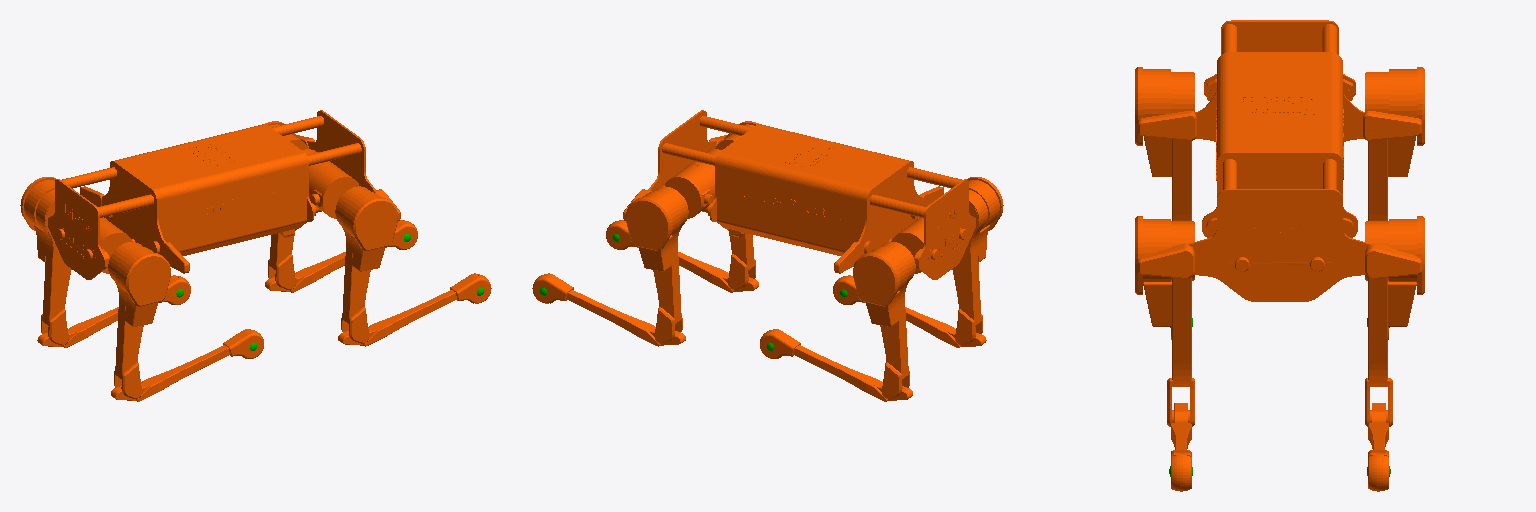
--- Facts derived from the render (not from the file) ---
3 views of the same robot in one strip: view 1: azimuth 30°, elevation 25°; view 2: azimuth 150°, elevation 25°; view 3: azimuth 270°, elevation 25° (orthographic).
Model aliengo_description with 19 links and 18 joints (8 revolute, 4 continuous, 6 fixed), rooted at base, posed joints at zero except 4 at the middle of their limits (FR_calf_joint = -1.71, FL_calf_joint = -1.71, RR_calf_joint = -1.71, RL_calf_joint = -1.71).
Visible links, largest first — view 1: trunk, RR_thigh, FR_thigh, RL_thigh, RR_calf, FR_calf, FR_hip, FL_calf, RL_calf, FL_thigh, RR_hip; view 2: trunk, RL_thigh, FL_thigh, RR_thigh, RL_calf, FL_calf, FL_hip, FR_calf, RR_calf, FR_thigh, RL_hip; view 3: trunk, FR_thigh, FL_thigh, RR_thigh, RL_thigh, FR_calf, FL_calf.
Boxes of the visible links, box(x1,y1,x2,y2) form: trunk: box(48, 110, 400, 279); RR_thigh: box(108, 242, 170, 398); FR_thigh: box(335, 186, 397, 343); RL_thigh: box(20, 177, 71, 345); RR_calf: box(111, 329, 263, 401); FR_calf: box(338, 273, 491, 346); FR_hip: box(309, 162, 358, 218); FL_calf: box(265, 220, 417, 292); RL_calf: box(37, 275, 190, 347); FL_thigh: box(265, 121, 307, 289); RR_hip: box(75, 218, 134, 273); trunk: box(623, 110, 975, 279); RL_thigh: box(853, 242, 915, 398); FL_thigh: box(626, 186, 688, 343); RR_thigh: box(952, 177, 1003, 345); RL_calf: box(760, 329, 912, 401); FL_calf: box(532, 273, 685, 346); FL_hip: box(665, 162, 714, 218); FR_calf: box(606, 220, 758, 292); RR_calf: box(833, 275, 986, 347); FR_thigh: box(716, 121, 758, 289); RL_hip: box(889, 218, 949, 273); trunk: box(1138, 20, 1421, 301); FR_thigh: box(1135, 216, 1194, 426); FL_thigh: box(1365, 216, 1424, 426); RR_thigh: box(1135, 67, 1194, 220); RL_thigh: box(1365, 67, 1424, 220); FR_calf: box(1171, 403, 1191, 491); FL_calf: box(1368, 403, 1388, 491).
Size in the robot's own frame: 0.8017 by 0.393 by 0.3807 metres.
13 mesh visuals loaded from 5 distinct referenced files (5 binary STL).

URDF robot description (aliengo_description):
<?xml version="1.0" ?>
<!-- =================================================================================== -->
<!-- |    This document was autogenerated by xacro from robot.xacro                    | -->
<!-- |    EDITING THIS FILE BY HAND IS NOT RECOMMENDED                                 | -->
<!-- =================================================================================== -->
<robot name="aliengo_description" xmlns:xacro="http://www.ros.org/wiki/xacro">
  <material name="black">
    <color rgba="0.0 0.0 0.0 1.0"/>
  </material>
  <material name="blue">
    <color rgba="0.0 0.0 0.8 1.0"/>
  </material>
  <material name="green">
    <color rgba="0.0 0.8 0.0 1.0"/>
  </material>
  <material name="grey">
    <color rgba="0.2 0.2 0.2 1.0"/>
  </material>
  <material name="silver">
    <color rgba="0.913725490196 0.913725490196 0.847058823529 1.0"/>
  </material>
  <material name="orange">
    <color rgba="1.0 0.423529411765 0.0392156862745 1.0"/>
  </material>
  <material name="brown">
    <color rgba="0.870588235294 0.811764705882 0.764705882353 1.0"/>
  </material>
  <material name="red">
    <color rgba="0.8 0.0 0.0 1.0"/>
  </material>
  <material name="white">
    <color rgba="1.0 1.0 1.0 1.0"/>
  </material>
  <!-- <xacro:include filename="$(find aliengo_gazebo)/launch/gazebo.xacro"/> -->
  <!-- Debug mode will hung up the robot, use "true" or "false" to switch it. -->
  <!-- <xacro:if value="$(arg DEBUG)">
        <link name="world"/>
        <joint name="base_static_joint" type="fixed">
            <origin rpy="0 0 0" xyz="0 0 0"/>
            <parent link="world"/>
            <child link="base"/>
        </joint>
    </xacro:if>  -->
  <link name="base">
    <visual>
      <origin rpy="0 0 0" xyz="0 0 0"/>
      <geometry>
        <box size="0.001 0.001 0.001"/>
      </geometry>
    </visual>
  </link>
  <joint name="floating_base" type="fixed">
    <origin rpy="0 0 0" xyz="0 0 0"/>
    <parent link="base"/>
    <child link="trunk"/>
  </joint>
  <link name="trunk">
    <visual>
      <origin rpy="0 0 0" xyz="0 0 0"/>
      <geometry>
        <mesh filename="../meshes/trunk.stl" scale="1 1 1"/>
      </geometry>
      <material name="orange"/>
    </visual>
    <collision>
      <origin rpy="0 0 0" xyz="0 0 0"/>
      <geometry>
        <box size="0.647 0.15 0.112"/>
      </geometry>
    </collision>
    <!-- <collision>
            <origin rpy="0 0 0" xyz="0 0 0"/>
            <geometry>
                <mesh filename="../meshes/trunk.stl" scale="1 1 1"/>
            </geometry>
        </collision> -->
    <inertial>
      <origin rpy="0 0 0" xyz="0.008465 0.004045 -0.000763"/>
      <mass value="9.041"/>
      <inertia ixx="0.033260231" ixy="-0.000451628" ixz="0.000487603" iyy="0.16117211" iyz="4.8356e-05" izz="0.17460442"/>
    </inertial>
  </link>
  <joint name="imu_joint" type="fixed">
    <parent link="trunk"/>
    <child link="imu_link"/>
    <origin rpy="0 0 0" xyz="0 0 0"/>
  </joint>
  <link name="imu_link">
    <inertial>
      <mass value="0.001"/>
      <origin rpy="0 0 0" xyz="0 0 0"/>
      <inertia ixx="0.0001" ixy="0" ixz="0" iyy="0.000001" iyz="0" izz="0.0001"/>
    </inertial>
    <visual>
      <origin rpy="0 0 0" xyz="0 0 0"/>
      <geometry>
        <box size="0.001 0.001 0.001"/>
      </geometry>
      <material name="red"/>
    </visual>
    <collision>
      <origin rpy="0 0 0" xyz="0 0 0"/>
      <geometry>
        <box size=".001 .001 .001"/>
      </geometry>
    </collision>
  </link>
  <joint name="FR_hip_joint" type="revolute">
    <origin rpy="0 0 0" xyz="0.2399 -0.051 0"/>
    <parent link="trunk"/>
    <child link="FR_hip"/>
    <axis xyz="1 0 0"/>
    <dynamics damping="0" friction="0"/>
    <limit effort="44.4" lower="-1.2217304764" upper="1.2217304764" velocity="40"/>
  </joint>
  <link name="FR_hip">
    <visual>
      <origin rpy="3.14159265359 0 0" xyz="0 0 0"/>
      <geometry>
        <mesh filename="../meshes/hip.stl" scale="1 1 1"/>
      </geometry>
      <material name="orange"/>
    </visual>
    <collision>
      <origin rpy="1.57079632679 0 0" xyz="0 -0.083 0"/>
      <geometry>
        <cylinder length="0.0418" radius="0.046"/>
      </geometry>
    </collision>
    <inertial>
      <origin rpy="0 0 0" xyz="-0.022191 -0.015144 -1.5e-05"/>
      <mass value="1.993"/>
      <inertia ixx="0.002903894" ixy="7.185e-05" ixz="-1.262e-06" iyy="0.004907517" iyz="1.75e-06" izz="0.005586944"/>
    </inertial>
  </link>
  <!-- <joint name="${name}_hip_fixed" type="fixed">
            <origin rpy="0 0 0" xyz="0 ${(thigh_shoulder_length/2.0+hip_offset)*mirror} 0"/>
            <parent link="${name}_hip"/>
            <child link="${name}_thigh_shoulder"/>
        </joint> -->
  <!-- this link is only for collision -->
  <!-- <link name="${name}_thigh_shoulder">
            <collision>
                <origin rpy="${PI/2.0} 0 0" xyz="0 0 0"/>
                <geometry>
                    <cylinder length="${thigh_shoulder_length}" radius="${thigh_shoulder_radius}"/>
                </geometry>
            </collision>
        </link> -->
  <joint name="FR_thigh_joint" type="continuous">
    <origin rpy="0 0 0" xyz="0 -0.083 0"/>
    <parent link="FR_hip"/>
    <child link="FR_thigh"/>
    <axis xyz="0 1 0"/>
    <dynamics damping="0" friction="0"/>
    <limit effort="44.4" velocity="40"/>
  </joint>
  <link name="FR_thigh">
    <visual>
      <origin rpy="0 0 0" xyz="0 0 0"/>
      <geometry>
        <mesh filename="../meshes/thigh_mirror.stl" scale="1 1 1"/>
      </geometry>
      <material name="orange"/>
    </visual>
    <collision>
      <origin rpy="0 1.57079632679 0" xyz="0 0 -0.125"/>
      <geometry>
        <box size="0.25 0.0374 0.043"/>
      </geometry>
    </collision>
    <inertial>
      <origin rpy="0 0 0" xyz="-0.005607 0.003877 -0.048199"/>
      <mass value="0.639"/>
      <inertia ixx="0.005666803" ixy="-3.597e-06" ixz="0.000491446" iyy="0.005847229" iyz="-1.0086e-05" izz="0.000369811"/>
    </inertial>
  </link>
  <joint name="FR_calf_joint" type="revolute">
    <origin rpy="0 0 0" xyz="0 0 -0.25"/>
    <parent link="FR_thigh"/>
    <child link="FR_calf"/>
    <axis xyz="0 1 0"/>
    <dynamics damping="0" friction="0"/>
    <limit effort="44.4" lower="-2.77507351067" upper="-0.645771823238" velocity="40"/>
  </joint>
  <link name="FR_calf">
    <visual>
      <origin rpy="0 0 0" xyz="0 0 0"/>
      <geometry>
        <mesh filename="../meshes/calf.stl" scale="1 1 1"/>
      </geometry>
      <material name="orange"/>
    </visual>
    <collision>
      <origin rpy="0 1.57079632679 0" xyz="0 0 -0.125"/>
      <geometry>
        <box size="0.25 0.0208 0.016"/>
      </geometry>
    </collision>
    <inertial>
      <origin rpy="0 0 0" xyz="0.002781 6.3e-05 -0.142518"/>
      <mass value="0.207"/>
      <inertia ixx="0.006341369" ixy="-3e-09" ixz="-8.7951e-05" iyy="0.006355157" iyz="-1.336e-06" izz="3.9188e-05"/>
    </inertial>
  </link>
  <joint name="FR_foot_fixed" type="fixed">
    <origin rpy="0 0 0" xyz="0 0 -0.25"/>
    <parent link="FR_calf"/>
    <child link="FR_foot"/>
  </joint>
  <link name="FR_foot">
    <visual>
      <origin rpy="0 0 0" xyz="0 0 0"/>
      <geometry>
        <sphere radius="0.0165"/>
      </geometry>
      <material name="green"/>
    </visual>
    <collision>
      <origin rpy="0 0 0" xyz="0 0 0"/>
      <geometry>
        <sphere radius="0.0265"/>
      </geometry>
    </collision>
    <inertial>
      <mass value="0.06"/>
      <inertia ixx="1.6854e-05" ixy="0.0" ixz="0.0" iyy="1.6854e-05" iyz="0.0" izz="1.6854e-05"/>
    </inertial>
  </link>
  <transmission name="FR_hip_tran">
    <type>transmission_interface/SimpleTransmission</type>
    <joint name="FR_hip_joint">
      <hardwareInterface>hardware_interface/EffortJointInterface</hardwareInterface>
    </joint>
    <actuator name="FR_hip_motor">
      <hardwareInterface>hardware_interface/EffortJointInterface</hardwareInterface>
      <mechanicalReduction>1</mechanicalReduction>
    </actuator>
  </transmission>
  <transmission name="FR_thigh_tran">
    <type>transmission_interface/SimpleTransmission</type>
    <joint name="FR_thigh_joint">
      <hardwareInterface>hardware_interface/EffortJointInterface</hardwareInterface>
    </joint>
    <actuator name="FR_thigh_motor">
      <hardwareInterface>hardware_interface/EffortJointInterface</hardwareInterface>
      <mechanicalReduction>1</mechanicalReduction>
    </actuator>
  </transmission>
  <transmission name="FR_calf_tran">
    <type>transmission_interface/SimpleTransmission</type>
    <joint name="FR_calf_joint">
      <hardwareInterface>hardware_interface/EffortJointInterface</hardwareInterface>
    </joint>
    <actuator name="FR_calf_motor">
      <hardwareInterface>hardware_interface/EffortJointInterface</hardwareInterface>
      <mechanicalReduction>1</mechanicalReduction>
    </actuator>
  </transmission>
  <joint name="FL_hip_joint" type="revolute">
    <origin rpy="0 0 0" xyz="0.2399 0.051 0"/>
    <parent link="trunk"/>
    <child link="FL_hip"/>
    <axis xyz="1 0 0"/>
    <dynamics damping="0" friction="0"/>
    <limit effort="44.4" lower="-1.2217304764" upper="1.2217304764" velocity="40"/>
  </joint>
  <link name="FL_hip">
    <visual>
      <origin rpy="0 0 0" xyz="0 0 0"/>
      <geometry>
        <mesh filename="../meshes/hip.stl" scale="1 1 1"/>
      </geometry>
      <material name="orange"/>
    </visual>
    <collision>
      <origin rpy="1.57079632679 0 0" xyz="0 0.083 0"/>
      <geometry>
        <cylinder length="0.0418" radius="0.046"/>
      </geometry>
    </collision>
    <inertial>
      <origin rpy="0 0 0" xyz="-0.022191 0.015144 -1.5e-05"/>
      <mass value="1.993"/>
      <inertia ixx="0.002903894" ixy="-7.185e-05" ixz="-1.262e-06" iyy="0.004907517" iyz="-1.75e-06" izz="0.005586944"/>
    </inertial>
  </link>
  <!-- <joint name="${name}_hip_fixed" type="fixed">
            <origin rpy="0 0 0" xyz="0 ${(thigh_shoulder_length/2.0+hip_offset)*mirror} 0"/>
            <parent link="${name}_hip"/>
            <child link="${name}_thigh_shoulder"/>
        </joint> -->
  <!-- this link is only for collision -->
  <!-- <link name="${name}_thigh_shoulder">
            <collision>
                <origin rpy="${PI/2.0} 0 0" xyz="0 0 0"/>
                <geometry>
                    <cylinder length="${thigh_shoulder_length}" radius="${thigh_shoulder_radius}"/>
                </geometry>
            </collision>
        </link> -->
  <joint name="FL_thigh_joint" type="continuous">
    <origin rpy="0 0 0" xyz="0 0.083 0"/>
    <parent link="FL_hip"/>
    <child link="FL_thigh"/>
    <axis xyz="0 1 0"/>
    <dynamics damping="0" friction="0"/>
    <limit effort="44.4" velocity="40"/>
  </joint>
  <link name="FL_thigh">
    <visual>
      <origin rpy="0 0 0" xyz="0 0 0"/>
      <geometry>
        <mesh filename="../meshes/thigh.stl" scale="1 1 1"/>
      </geometry>
      <material name="orange"/>
    </visual>
    <collision>
      <origin rpy="0 1.57079632679 0" xyz="0 0 -0.125"/>
      <geometry>
        <box size="0.25 0.0374 0.043"/>
      </geometry>
    </collision>
    <inertial>
      <origin rpy="0 0 0" xyz="-0.005607 -0.003877 -0.048199"/>
      <mass value="0.639"/>
      <inertia ixx="0.005666803" ixy="3.597e-06" ixz="0.000491446" iyy="0.005847229" iyz="1.0086e-05" izz="0.000369811"/>
    </inertial>
  </link>
  <joint name="FL_calf_joint" type="revolute">
    <origin rpy="0 0 0" xyz="0 0 -0.25"/>
    <parent link="FL_thigh"/>
    <child link="FL_calf"/>
    <axis xyz="0 1 0"/>
    <dynamics damping="0" friction="0"/>
    <limit effort="44.4" lower="-2.77507351067" upper="-0.645771823238" velocity="40"/>
  </joint>
  <link name="FL_calf">
    <visual>
      <origin rpy="0 0 0" xyz="0 0 0"/>
      <geometry>
        <mesh filename="../meshes/calf.stl" scale="1 1 1"/>
      </geometry>
      <material name="orange"/>
    </visual>
    <collision>
      <origin rpy="0 1.57079632679 0" xyz="0 0 -0.125"/>
      <geometry>
        <box size="0.25 0.0208 0.016"/>
      </geometry>
    </collision>
    <inertial>
      <origin rpy="0 0 0" xyz="0.002781 6.3e-05 -0.142518"/>
      <mass value="0.207"/>
      <inertia ixx="0.006341369" ixy="-3e-09" ixz="-8.7951e-05" iyy="0.006355157" iyz="-1.336e-06" izz="3.9188e-05"/>
    </inertial>
  </link>
  <joint name="FL_foot_fixed" type="fixed">
    <origin rpy="0 0 0" xyz="0 0 -0.25"/>
    <parent link="FL_calf"/>
    <child link="FL_foot"/>
  </joint>
  <link name="FL_foot">
    <visual>
      <origin rpy="0 0 0" xyz="0 0 0"/>
      <geometry>
        <sphere radius="0.0165"/>
      </geometry>
      <material name="green"/>
    </visual>
    <collision>
      <origin rpy="0 0 0" xyz="0 0 0"/>
      <geometry>
        <sphere radius="0.0265"/>
      </geometry>
    </collision>
    <inertial>
      <mass value="0.06"/>
      <inertia ixx="1.6854e-05" ixy="0.0" ixz="0.0" iyy="1.6854e-05" iyz="0.0" izz="1.6854e-05"/>
    </inertial>
  </link>
  <transmission name="FL_hip_tran">
    <type>transmission_interface/SimpleTransmission</type>
    <joint name="FL_hip_joint">
      <hardwareInterface>hardware_interface/EffortJointInterface</hardwareInterface>
    </joint>
    <actuator name="FL_hip_motor">
      <hardwareInterface>hardware_interface/EffortJointInterface</hardwareInterface>
      <mechanicalReduction>1</mechanicalReduction>
    </actuator>
  </transmission>
  <transmission name="FL_thigh_tran">
    <type>transmission_interface/SimpleTransmission</type>
    <joint name="FL_thigh_joint">
      <hardwareInterface>hardware_interface/EffortJointInterface</hardwareInterface>
    </joint>
    <actuator name="FL_thigh_motor">
      <hardwareInterface>hardware_interface/EffortJointInterface</hardwareInterface>
      <mechanicalReduction>1</mechanicalReduction>
    </actuator>
  </transmission>
  <transmission name="FL_calf_tran">
    <type>transmission_interface/SimpleTransmission</type>
    <joint name="FL_calf_joint">
      <hardwareInterface>hardware_interface/EffortJointInterface</hardwareInterface>
    </joint>
    <actuator name="FL_calf_motor">
      <hardwareInterface>hardware_interface/EffortJointInterface</hardwareInterface>
      <mechanicalReduction>1</mechanicalReduction>
    </actuator>
  </transmission>
  <joint name="RR_hip_joint" type="revolute">
    <origin rpy="0 0 0" xyz="-0.2399 -0.051 0"/>
    <parent link="trunk"/>
    <child link="RR_hip"/>
    <axis xyz="1 0 0"/>
    <dynamics damping="0" friction="0"/>
    <limit effort="44.4" lower="-1.2217304764" upper="1.2217304764" velocity="40"/>
  </joint>
  <link name="RR_hip">
    <visual>
      <origin rpy="3.14159265359 3.14159265359 0" xyz="0 0 0"/>
      <geometry>
        <mesh filename="../meshes/hip.stl" scale="1 1 1"/>
      </geometry>
      <material name="orange"/>
    </visual>
    <collision>
      <origin rpy="1.57079632679 0 0" xyz="0 -0.083 0"/>
      <geometry>
        <cylinder length="0.0418" radius="0.046"/>
      </geometry>
    </collision>
    <inertial>
      <origin rpy="0 0 0" xyz="0.022191 -0.015144 -1.5e-05"/>
      <mass value="1.993"/>
      <inertia ixx="0.002903894" ixy="-7.185e-05" ixz="1.262e-06" iyy="0.004907517" iyz="1.75e-06" izz="0.005586944"/>
    </inertial>
  </link>
  <!-- <joint name="${name}_hip_fixed" type="fixed">
            <origin rpy="0 0 0" xyz="0 ${(thigh_shoulder_length/2.0+hip_offset)*mirror} 0"/>
            <parent link="${name}_hip"/>
            <child link="${name}_thigh_shoulder"/>
        </joint> -->
  <!-- this link is only for collision -->
  <!-- <link name="${name}_thigh_shoulder">
            <collision>
                <origin rpy="${PI/2.0} 0 0" xyz="0 0 0"/>
                <geometry>
                    <cylinder length="${thigh_shoulder_length}" radius="${thigh_shoulder_radius}"/>
                </geometry>
            </collision>
        </link> -->
  <joint name="RR_thigh_joint" type="continuous">
    <origin rpy="0 0 0" xyz="0 -0.083 0"/>
    <parent link="RR_hip"/>
    <child link="RR_thigh"/>
    <axis xyz="0 1 0"/>
    <dynamics damping="0" friction="0"/>
    <limit effort="44.4" velocity="40"/>
  </joint>
  <link name="RR_thigh">
    <visual>
      <origin rpy="0 0 0" xyz="0 0 0"/>
      <geometry>
        <mesh filename="../meshes/thigh_mirror.stl" scale="1 1 1"/>
      </geometry>
      <material name="orange"/>
    </visual>
    <collision>
      <origin rpy="0 1.57079632679 0" xyz="0 0 -0.125"/>
      <geometry>
        <box size="0.25 0.0374 0.043"/>
      </geometry>
    </collision>
    <inertial>
      <origin rpy="0 0 0" xyz="-0.005607 0.003877 -0.048199"/>
      <mass value="0.639"/>
      <inertia ixx="0.005666803" ixy="-3.597e-06" ixz="0.000491446" iyy="0.005847229" iyz="-1.0086e-05" izz="0.000369811"/>
    </inertial>
  </link>
  <joint name="RR_calf_joint" type="revolute">
    <origin rpy="0 0 0" xyz="0 0 -0.25"/>
    <parent link="RR_thigh"/>
    <child link="RR_calf"/>
    <axis xyz="0 1 0"/>
    <dynamics damping="0" friction="0"/>
    <limit effort="44.4" lower="-2.77507351067" upper="-0.645771823238" velocity="40"/>
  </joint>
  <link name="RR_calf">
    <visual>
      <origin rpy="0 0 0" xyz="0 0 0"/>
      <geometry>
        <mesh filename="../meshes/calf.stl" scale="1 1 1"/>
      </geometry>
      <material name="orange"/>
    </visual>
    <collision>
      <origin rpy="0 1.57079632679 0" xyz="0 0 -0.125"/>
      <geometry>
        <box size="0.25 0.0208 0.016"/>
      </geometry>
    </collision>
    <inertial>
      <origin rpy="0 0 0" xyz="0.002781 6.3e-05 -0.142518"/>
      <mass value="0.207"/>
      <inertia ixx="0.006341369" ixy="-3e-09" ixz="-8.7951e-05" iyy="0.006355157" iyz="-1.336e-06" izz="3.9188e-05"/>
    </inertial>
  </link>
  <joint name="RR_foot_fixed" type="fixed">
    <origin rpy="0 0 0" xyz="0 0 -0.25"/>
    <parent link="RR_calf"/>
    <child link="RR_foot"/>
  </joint>
  <link name="RR_foot">
    <visual>
      <origin rpy="0 0 0" xyz="0 0 0"/>
      <geometry>
        <sphere radius="0.0165"/>
      </geometry>
      <material name="green"/>
    </visual>
    <collision>
      <origin rpy="0 0 0" xyz="0 0 0"/>
      <geometry>
        <sphere radius="0.0265"/>
      </geometry>
    </collision>
    <inertial>
      <mass value="0.06"/>
      <inertia ixx="1.6854e-05" ixy="0.0" ixz="0.0" iyy="1.6854e-05" iyz="0.0" izz="1.6854e-05"/>
    </inertial>
  </link>
  <transmission name="RR_hip_tran">
    <type>transmission_interface/SimpleTransmission</type>
    <joint name="RR_hip_joint">
      <hardwareInterface>hardware_interface/EffortJointInterface</hardwareInterface>
    </joint>
    <actuator name="RR_hip_motor">
      <hardwareInterface>hardware_interface/EffortJointInterface</hardwareInterface>
      <mechanicalReduction>1</mechanicalReduction>
    </actuator>
  </transmission>
  <transmission name="RR_thigh_tran">
    <type>transmission_interface/SimpleTransmission</type>
    <joint name="RR_thigh_joint">
      <hardwareInterface>hardware_interface/EffortJointInterface</hardwareInterface>
    </joint>
    <actuator name="RR_thigh_motor">
      <hardwareInterface>hardware_interface/EffortJointInterface</hardwareInterface>
      <mechanicalReduction>1</mechanicalReduction>
    </actuator>
  </transmission>
  <transmission name="RR_calf_tran">
    <type>transmission_interface/SimpleTransmission</type>
    <joint name="RR_calf_joint">
      <hardwareInterface>hardware_interface/EffortJointInterface</hardwareInterface>
    </joint>
    <actuator name="RR_calf_motor">
      <hardwareInterface>hardware_interface/EffortJointInterface</hardwareInterface>
      <mechanicalReduction>1</mechanicalReduction>
    </actuator>
  </transmission>
  <joint name="RL_hip_joint" type="revolute">
    <origin rpy="0 0 0" xyz="-0.2399 0.051 0"/>
    <parent link="trunk"/>
    <child link="RL_hip"/>
    <axis xyz="1 0 0"/>
    <dynamics damping="0" friction="0"/>
    <limit effort="44.4" lower="-1.2217304764" upper="1.2217304764" velocity="40"/>
  </joint>
  <link name="RL_hip">
    <visual>
      <origin rpy="0 3.14159265359 0" xyz="0 0 0"/>
      <geometry>
        <mesh filename="../meshes/hip.stl" scale="1 1 1"/>
      </geometry>
      <material name="orange"/>
    </visual>
    <collision>
      <origin rpy="1.57079632679 0 0" xyz="0 0.083 0"/>
      <geometry>
        <cylinder length="0.0418" radius="0.046"/>
      </geometry>
    </collision>
    <inertial>
      <origin rpy="0 0 0" xyz="0.022191 0.015144 -1.5e-05"/>
      <mass value="1.993"/>
      <inertia ixx="0.002903894" ixy="7.185e-05" ixz="1.262e-06" iyy="0.004907517" iyz="-1.75e-06" izz="0.005586944"/>
    </inertial>
  </link>
  <!-- <joint name="${name}_hip_fixed" type="fixed">
            <origin rpy="0 0 0" xyz="0 ${(thigh_shoulder_length/2.0+hip_offset)*mirror} 0"/>
            <parent link="${name}_hip"/>
            <child link="${name}_thigh_shoulder"/>
        </joint> -->
  <!-- this link is only for collision -->
  <!-- <link name="${name}_thigh_shoulder">
            <collision>
                <origin rpy="${PI/2.0} 0 0" xyz="0 0 0"/>
                <geometry>
                    <cylinder length="${thigh_shoulder_length}" radius="${thigh_shoulder_radius}"/>
                </geometry>
            </collision>
        </link> -->
  <joint name="RL_thigh_joint" type="continuous">
    <origin rpy="0 0 0" xyz="0 0.083 0"/>
    <parent link="RL_hip"/>
    <child link="RL_thigh"/>
    <axis xyz="0 1 0"/>
    <dynamics damping="0" friction="0"/>
    <limit effort="44.4" velocity="40"/>
  </joint>
  <link name="RL_thigh">
    <visual>
      <origin rpy="0 0 0" xyz="0 0 0"/>
      <geometry>
        <mesh filename="../meshes/thigh.stl" scale="1 1 1"/>
      </geometry>
      <material name="orange"/>
    </visual>
    <collision>
      <origin rpy="0 1.57079632679 0" xyz="0 0 -0.125"/>
      <geometry>
        <box size="0.25 0.0374 0.043"/>
      </geometry>
    </collision>
    <inertial>
      <origin rpy="0 0 0" xyz="-0.005607 -0.003877 -0.048199"/>
      <mass value="0.639"/>
      <inertia ixx="0.005666803" ixy="3.597e-06" ixz="0.000491446" iyy="0.005847229" iyz="1.0086e-05" izz="0.000369811"/>
    </inertial>
  </link>
  <joint name="RL_calf_joint" type="revolute">
    <origin rpy="0 0 0" xyz="0 0 -0.25"/>
    <parent link="RL_thigh"/>
    <child link="RL_calf"/>
    <axis xyz="0 1 0"/>
    <dynamics damping="0" friction="0"/>
    <limit effort="44.4" lower="-2.77507351067" upper="-0.645771823238" velocity="40"/>
  </joint>
  <link name="RL_calf">
    <visual>
      <origin rpy="0 0 0" xyz="0 0 0"/>
      <geometry>
        <mesh filename="../meshes/calf.stl" scale="1 1 1"/>
      </geometry>
      <material name="orange"/>
    </visual>
    <collision>
      <origin rpy="0 1.57079632679 0" xyz="0 0 -0.125"/>
      <geometry>
        <box size="0.25 0.0208 0.016"/>
      </geometry>
    </collision>
    <inertial>
      <origin rpy="0 0 0" xyz="0.002781 6.3e-05 -0.142518"/>
      <mass value="0.207"/>
      <inertia ixx="0.006341369" ixy="-3e-09" ixz="-8.7951e-05" iyy="0.006355157" iyz="-1.336e-06" izz="3.9188e-05"/>
    </inertial>
  </link>
  <joint name="RL_foot_fixed" type="fixed">
    <origin rpy="0 0 0" xyz="0 0 -0.25"/>
    <parent link="RL_calf"/>
    <child link="RL_foot"/>
  </joint>
  <link name="RL_foot">
    <visual>
      <origin rpy="0 0 0" xyz="0 0 0"/>
      <geometry>
        <sphere radius="0.0165"/>
      </geometry>
      <material name="green"/>
    </visual>
    <collision>
      <origin rpy="0 0 0" xyz="0 0 0"/>
      <geometry>
        <sphere radius="0.0265"/>
      </geometry>
    </collision>
    <inertial>
      <mass value="0.06"/>
      <inertia ixx="1.6854e-05" ixy="0.0" ixz="0.0" iyy="1.6854e-05" iyz="0.0" izz="1.6854e-05"/>
    </inertial>
  </link>
  <transmission name="RL_hip_tran">
    <type>transmission_interface/SimpleTransmission</type>
    <joint name="RL_hip_joint">
      <hardwareInterface>hardware_interface/EffortJointInterface</hardwareInterface>
    </joint>
    <actuator name="RL_hip_motor">
      <hardwareInterface>hardware_interface/EffortJointInterface</hardwareInterface>
      <mechanicalReduction>1</mechanicalReduction>
    </actuator>
  </transmission>
  <transmission name="RL_thigh_tran">
    <type>transmission_interface/SimpleTransmission</type>
    <joint name="RL_thigh_joint">
      <hardwareInterface>hardware_interface/EffortJointInterface</hardwareInterface>
    </joint>
    <actuator name="RL_thigh_motor">
      <hardwareInterface>hardware_interface/EffortJointInterface</hardwareInterface>
      <mechanicalReduction>1</mechanicalReduction>
    </actuator>
  </transmission>
  <transmission name="RL_calf_tran">
    <type>transmission_interface/SimpleTransmission</type>
    <joint name="RL_calf_joint">
      <hardwareInterface>hardware_interface/EffortJointInterface</hardwareInterface>
    </joint>
    <actuator name="RL_calf_motor">
      <hardwareInterface>hardware_interface/EffortJointInterface</hardwareInterface>
      <mechanicalReduction>1</mechanicalReduction>
    </actuator>
  </transmission>
  <!-- <xacro:stairs stairs="15" xpos="0" ypos="2.0" zpos="0" /> -->
</robot>
